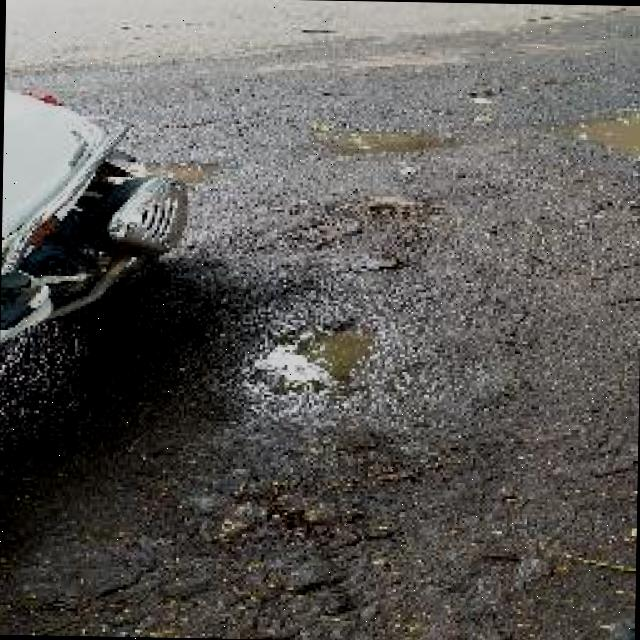waterlogging: (244, 313, 383, 407), (298, 112, 427, 164)
